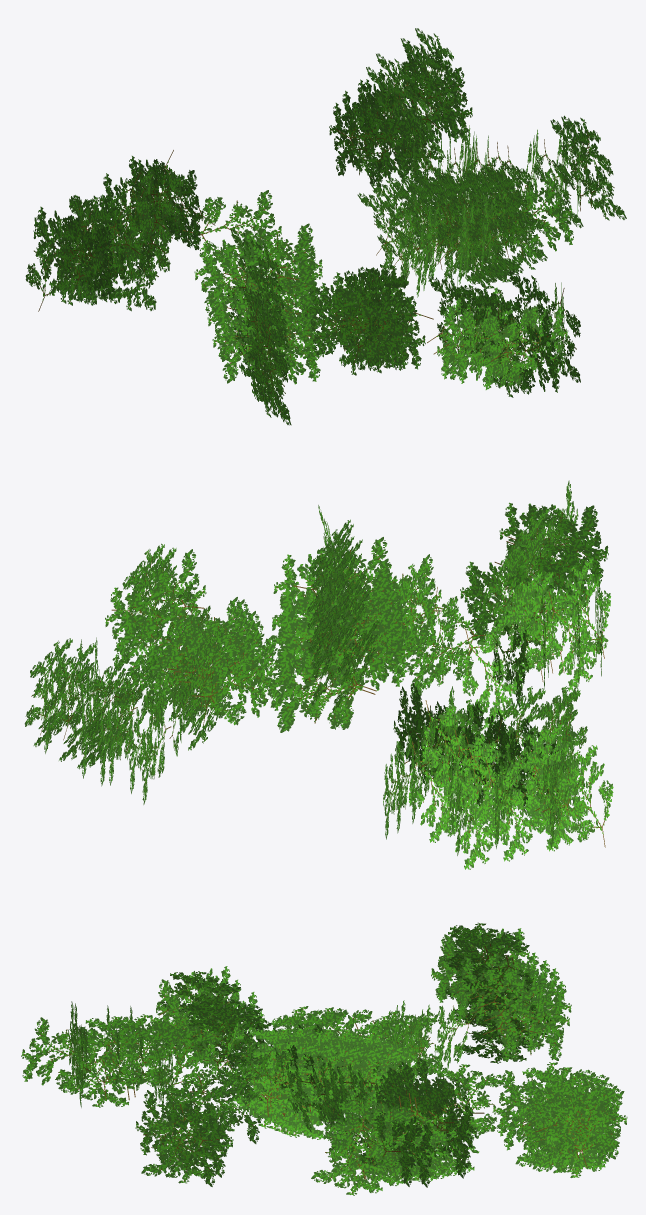
File: Leaves.obj
The picture shows the model from 3 angles, top to bottom: view 1: azimuth 30°, elevation 25°; view 2: azimuth 150°, elevation 25°; view 3: azimuth 270°, elevation 25°; orthographic projection. The views are drawn at different scales.
Visible parts, largest first — view 1: 平面.097, 平面.001, 平面.005, 平面.045, 平面.060, 平面.096, 平面.055, 平面.109, 平面.086, 平面.017, 平面.108, 平面.006 (+77 smaller); view 2: 平面.121, 平面.023, 平面.110, 平面.117, 平面.040, 平面.086, 平面.095, 平面.003, 平面.026, 平面.077, 平面.091, 平面.092 (+81 smaller); view 3: 平面.021, 平面.044, 平面.105, 平面.067, 平面.150, 平面.042, 平面.002, 平面.018, 平面.116, 平面.106, 平面.069, 平面.115 (+80 smaller).
Boxes of the visible parts, box(x1,y1,x2,y2) form: 平面.097: box(304, 283, 383, 360); 平面.001: box(497, 168, 573, 258); 平面.005: box(335, 102, 412, 180); 平面.045: box(183, 190, 281, 262); 平面.060: box(212, 303, 310, 383); 平面.096: box(317, 289, 401, 367); 平面.055: box(201, 246, 298, 326); 平面.109: box(491, 306, 568, 387); 平面.086: box(25, 216, 74, 311); 平面.017: box(387, 61, 463, 142); 平面.108: box(481, 305, 548, 388); 平面.006: box(329, 103, 396, 187); 平面.121: box(271, 645, 376, 729); 平面.023: box(192, 635, 286, 725); 平面.110: box(402, 607, 485, 695); 平面.117: box(314, 601, 414, 688); 平面.040: box(105, 575, 204, 663); 平面.086: box(556, 745, 613, 847); 平面.095: box(553, 557, 610, 658); 平面.003: box(462, 628, 524, 728); 平面.026: box(179, 621, 273, 709); 平面.077: box(482, 760, 543, 861); 平面.091: box(512, 571, 570, 672); 平面.092: box(546, 590, 608, 691); 平面.021: box(548, 1080, 624, 1167); 平面.044: box(311, 1108, 392, 1195); 平面.105: box(75, 1016, 156, 1098); 平面.067: box(483, 995, 569, 1061); 平面.150: box(242, 1028, 323, 1116); 平面.042: box(331, 1100, 410, 1179); 平面.002: box(21, 1017, 109, 1089); 平面.018: box(532, 1094, 607, 1177); 平面.116: box(143, 1109, 223, 1186); 平面.106: box(58, 1036, 141, 1107); 平面.069: box(450, 956, 528, 1023); 平面.115: box(141, 1103, 217, 1183).
Size of the model in its own units: 1.87 by 0.7845 by 2.18.
1 material, 1 textured.
